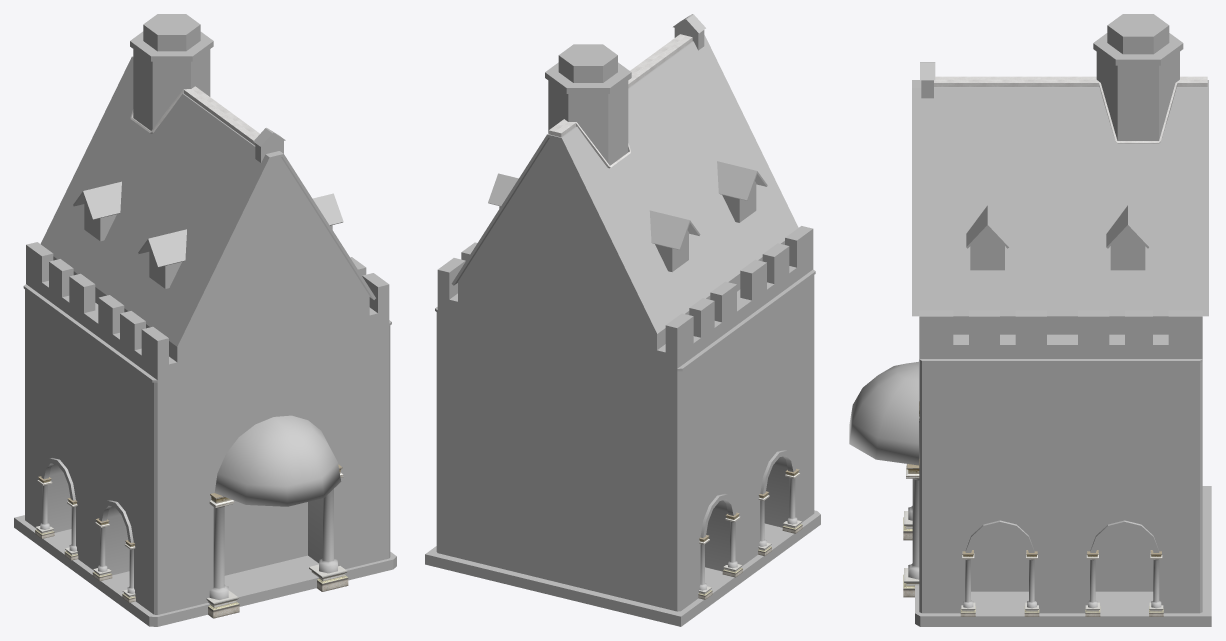
Rendered from house_02.fbx.
3 renders of one model, left to right at view 1: azimuth 30°, elevation 25°; view 2: azimuth 150°, elevation 25°; view 3: azimuth 270°, elevation 25°, orthographic. The views are drawn at different scales.
Parts seen in each view (by area): view 1: polySurface108; view 2: polySurface108; view 3: polySurface108.
Boxes of the visible parts, x1,y1,x2,y2 form: polySurface108: (14, 14, 396, 626); polySurface108: (425, 14, 820, 626); polySurface108: (849, 14, 1211, 626).
Size of the model in its own units: 20.01 by 37.99 by 23.25.
